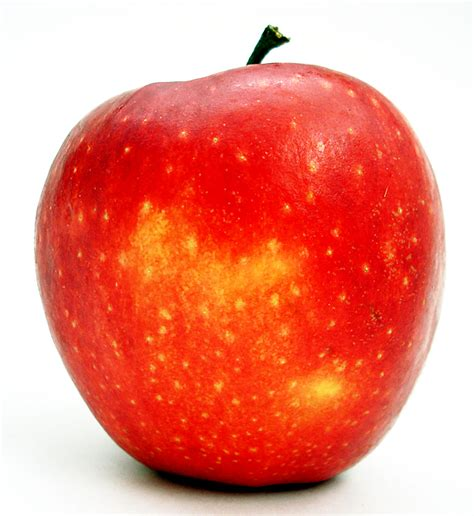apple: (32, 21, 453, 493)
